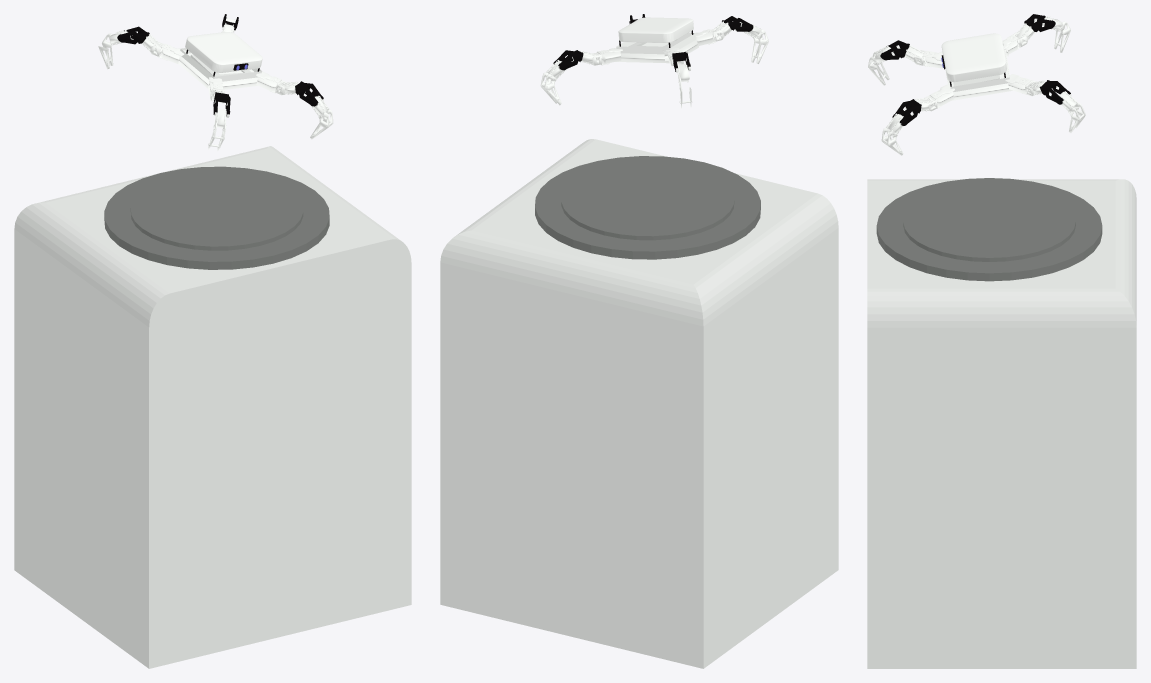
The model's file is podium.glb.
3 renders of one model, left to right at view 1: azimuth 30°, elevation 25°; view 2: azimuth 150°, elevation 25°; view 3: azimuth 270°, elevation 25°, orthographic.
Parts seen in each view (by area): view 1: Cube.002, Cube.004, Cube.009; view 2: Cube.002, Cube.004, Cube.009; view 3: Cube.002, Cube.004, Cube.009.
Part boxes in pixels (left/top/right/bottom): Cube.002: left=14, top=146, right=411, bottom=668; Cube.004: left=98, top=14, right=333, bottom=151; Cube.009: left=185, top=32, right=262, bottom=72; Cube.002: left=440, top=139, right=838, bottom=668; Cube.004: left=540, top=14, right=768, bottom=108; Cube.009: left=618, top=17, right=693, bottom=42; Cube.002: left=867, top=178, right=1136, bottom=668; Cube.004: left=868, top=14, right=1085, bottom=155; Cube.009: left=941, top=33, right=1006, bottom=82.
Bounding box in the file's own units: 9.69 × 19.77 × 8.62.
Materials: 3 (3 with a texture image).
